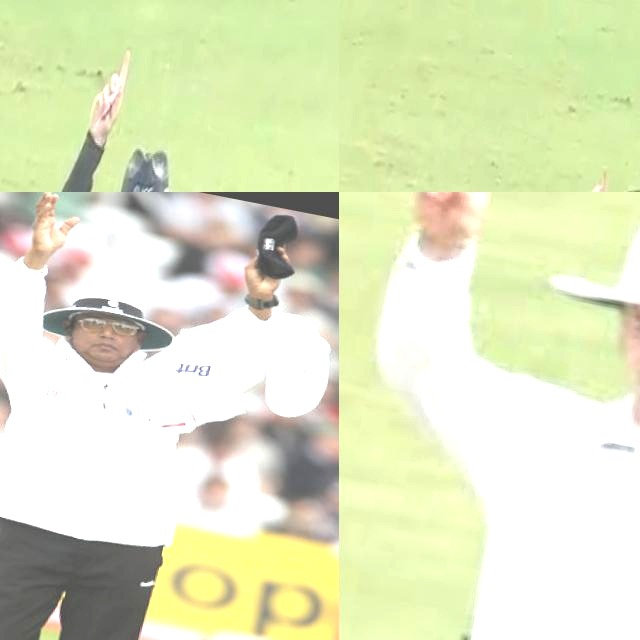Out: (339, 192, 640, 640), (2, 29, 266, 192)
Six: (0, 192, 339, 640)
